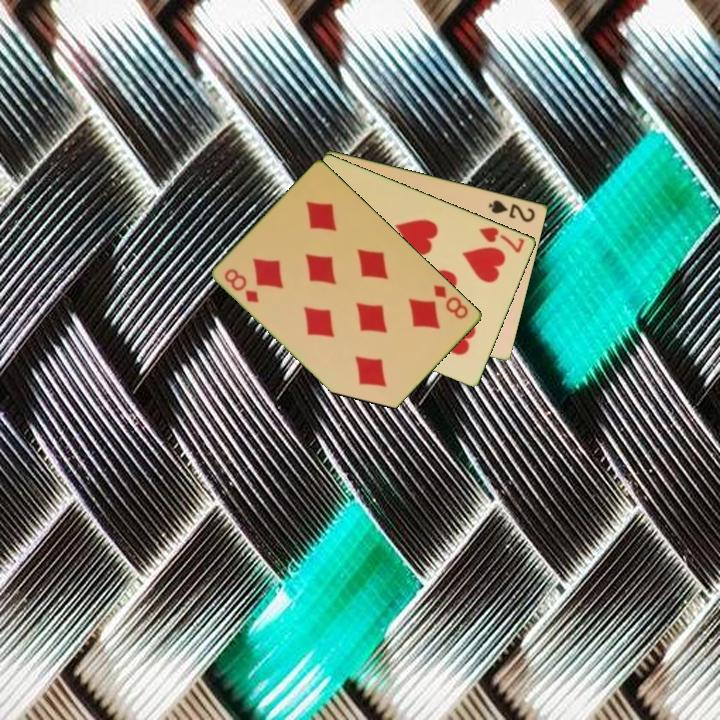2s: (485, 196, 538, 225)
7h: (476, 223, 528, 256)
8d: (430, 281, 472, 322), (221, 265, 262, 306)
